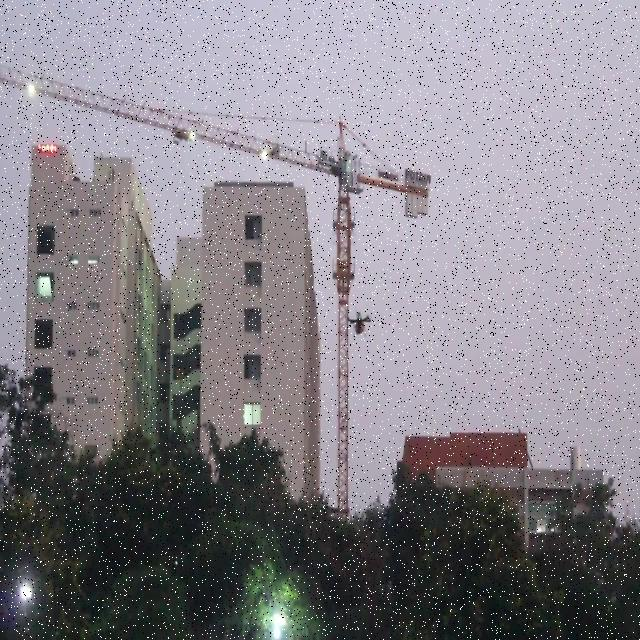UAV: (347, 311, 371, 335)
